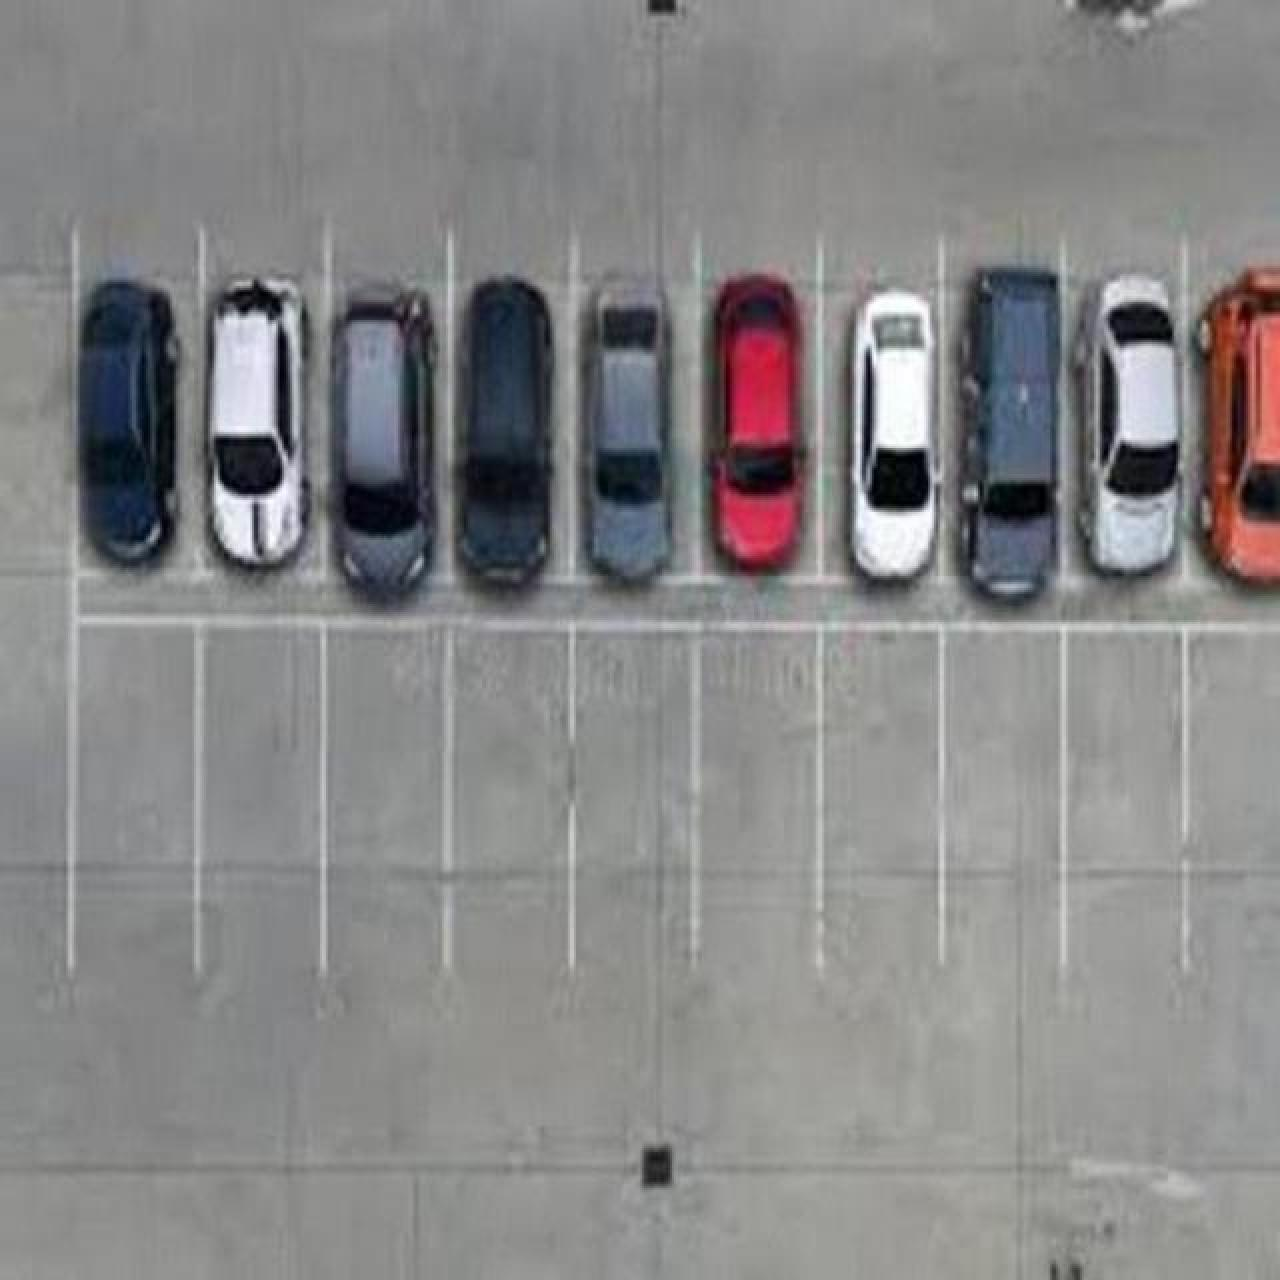car: (956, 264, 1060, 602), (1070, 270, 1180, 576), (331, 286, 436, 600), (454, 274, 554, 588), (204, 274, 308, 568), (708, 272, 806, 572), (79, 278, 178, 566), (580, 278, 672, 584), (844, 288, 938, 583), (1194, 264, 1278, 586), (1056, 0, 1212, 42)
